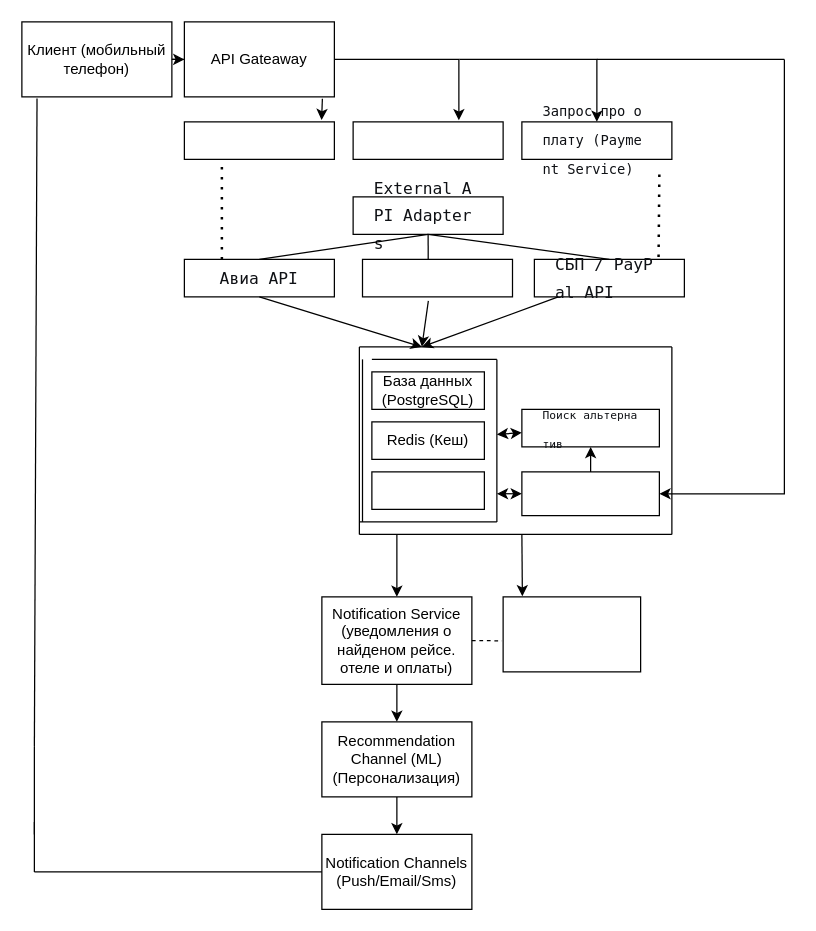
The diagram is 816 pixels wide and 931 high, and some of its shapes have lost their labels. The shapes that lost their labels are listed below. From the top down, each one's centre as x and y in pixels, then its label:
(258,140): Узнать статус рейсов (Flight Tracker)
(427,140): Найти отель (Alternative Serbive)
(436,277): Booking.com API
(427,490): Kafka
(590,493): Диспетчер (Trip service)
(571,634): Analytic Service (отчеты, ML)
